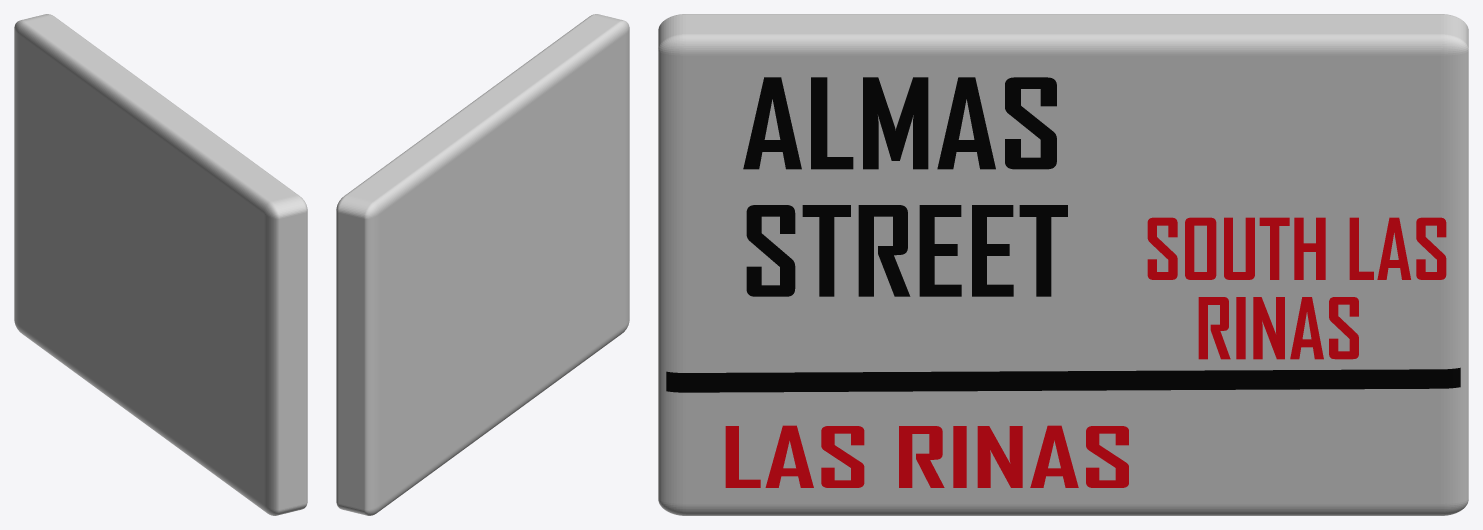
Rendered from uk_styled_street_sign_16.fbx.
3 renders of one model, left to right at view 1: azimuth 30°, elevation 25°; view 2: azimuth 150°, elevation 25°; view 3: azimuth 270°, elevation 25°, orthographic. The views are drawn at different scales.
Visible parts, largest first — view 1: Cube; view 2: Cube; view 3: Cube, Text, Text.001, Text.002, Text.003, Text.004.
Boxes of the visible parts, box(x1,y1,x2,y2) form: Cube: box(14, 14, 307, 515); Cube: box(336, 14, 629, 515); Cube: box(658, 14, 1468, 515); Text: box(743, 77, 1056, 169); Text.001: box(746, 205, 1067, 296); Text.002: box(725, 425, 1128, 487); Text.003: box(1147, 217, 1446, 279); Text.004: box(1198, 297, 1358, 359).
Bounding box in the file's own units: 1.63 × 11.91 × 18.18.
